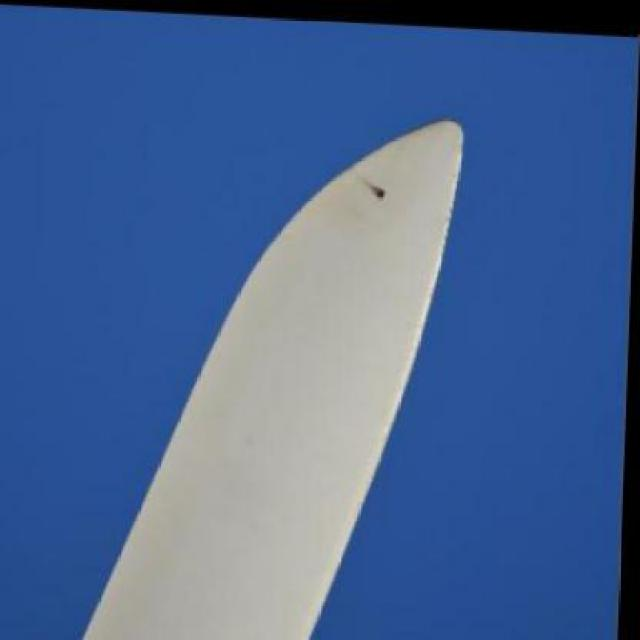Burn Mark: (359, 179, 387, 202)
